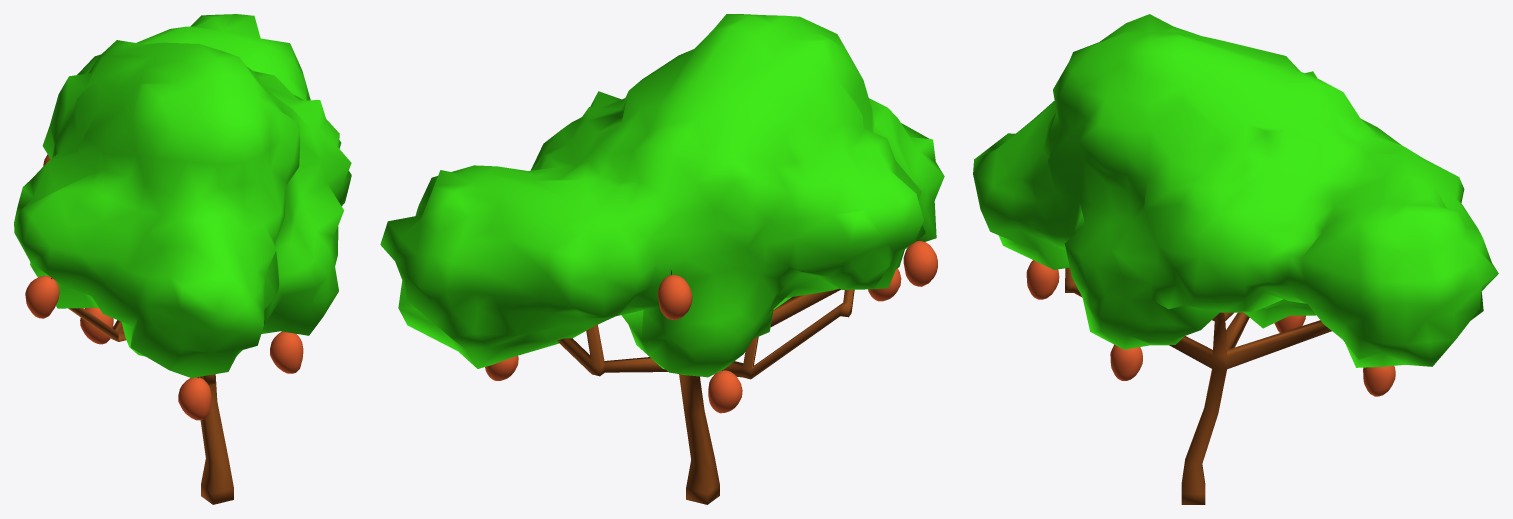
File: SM_MangoTree_002_LOD1.fbx
3 renders of one model, left to right at view 1: azimuth 30°, elevation 25°; view 2: azimuth 150°, elevation 25°; view 3: azimuth 270°, elevation 25°, orthographic. The views are drawn at different scales.
Visible parts, largest first — view 1: MangoTree_02; view 2: MangoTree_02; view 3: MangoTree_02.
Boxes of the visible parts, x1=… form: MangoTree_02: x1=14, y1=14, x2=351, y2=504; MangoTree_02: x1=380, y1=14, x2=944, y2=504; MangoTree_02: x1=973, y1=14, x2=1498, y2=504.
Size of the model in its own units: 272 by 301 by 318.
